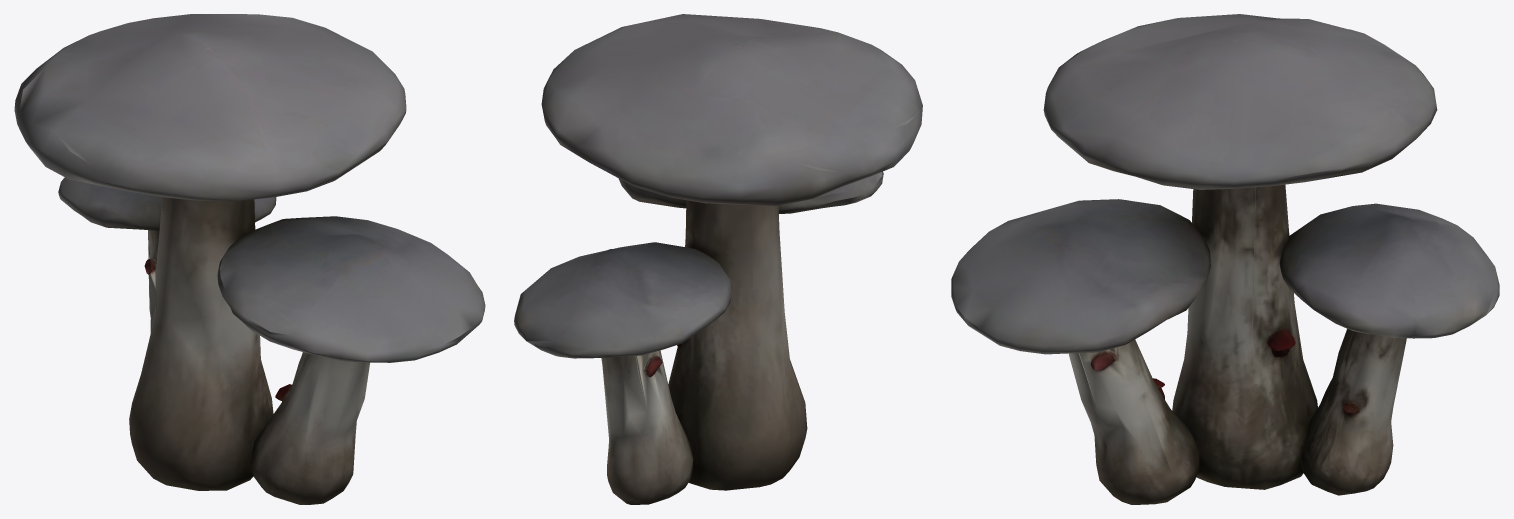
Rendered from mushroom.glb.
3 renders of one model, left to right at view 1: azimuth 30°, elevation 25°; view 2: azimuth 150°, elevation 25°; view 3: azimuth 270°, elevation 25°, orthographic.
Visible parts, largest first — view 1: model; view 2: model; view 3: model.
Part boxes in pixels (bbox=[...]): model: bbox=[14, 14, 485, 504]; model: bbox=[514, 14, 922, 504]; model: bbox=[951, 14, 1499, 504].
Size of the model in its own units: 0.8465 by 1 by 1.15.
Materials: 1 (1 with a texture image).
